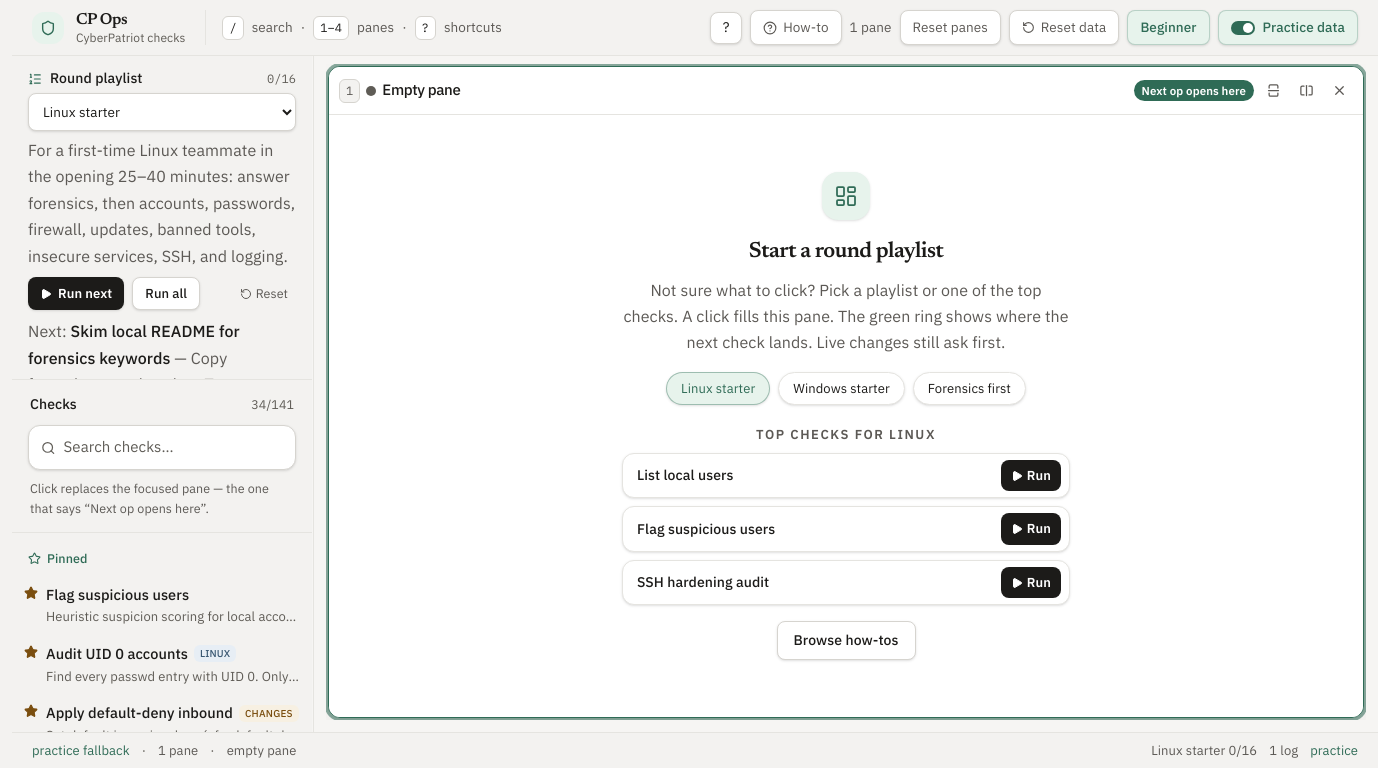
Test case: dashboard shell › filters the operations catalog
Type "ssh" into the field with test id "catalog-search" at (173, 448), box [64, 436, 283, 459]
(page scrolled)
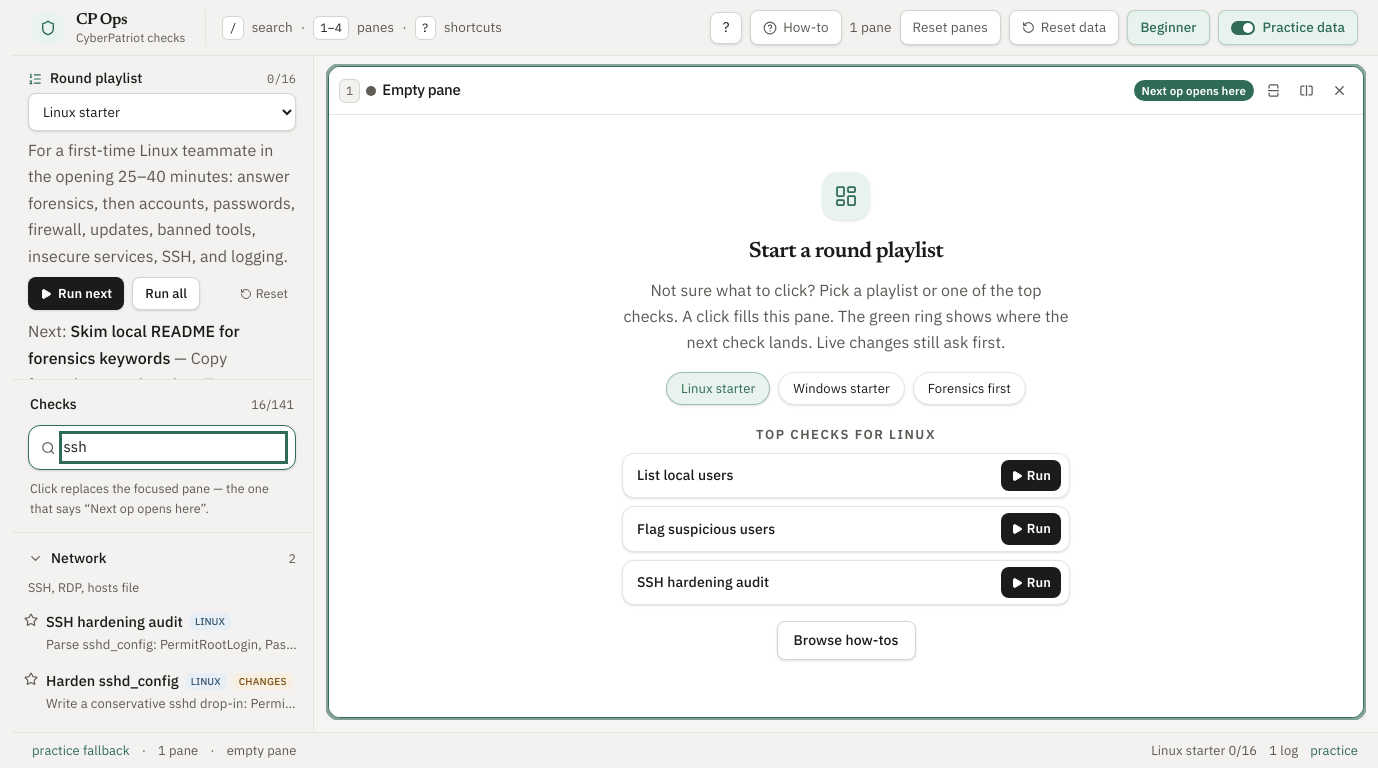
Check: the element with test id "catalog-item-ssh-hardening-audit" is shown, box [12, 603, 312, 662]
